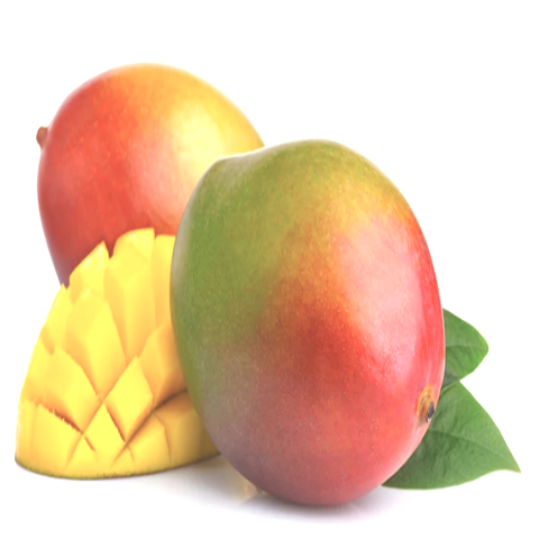mango: (157, 129, 467, 515), (11, 47, 300, 354)
